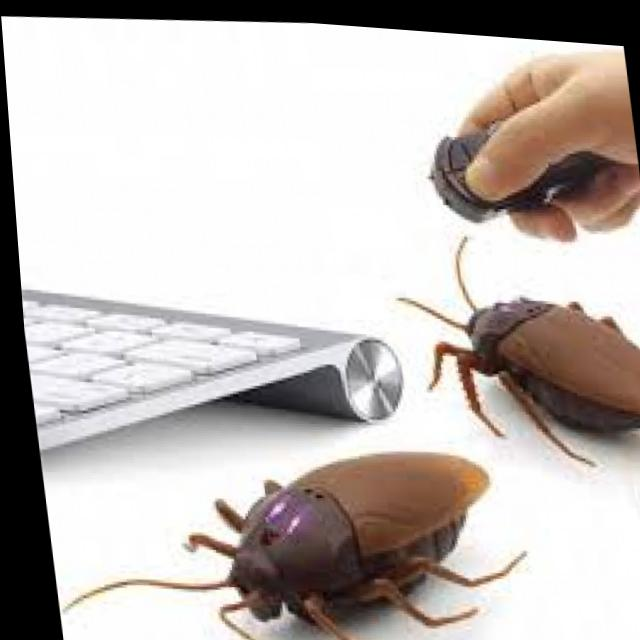Cockroach: (89, 372, 527, 640), (410, 223, 640, 459)
